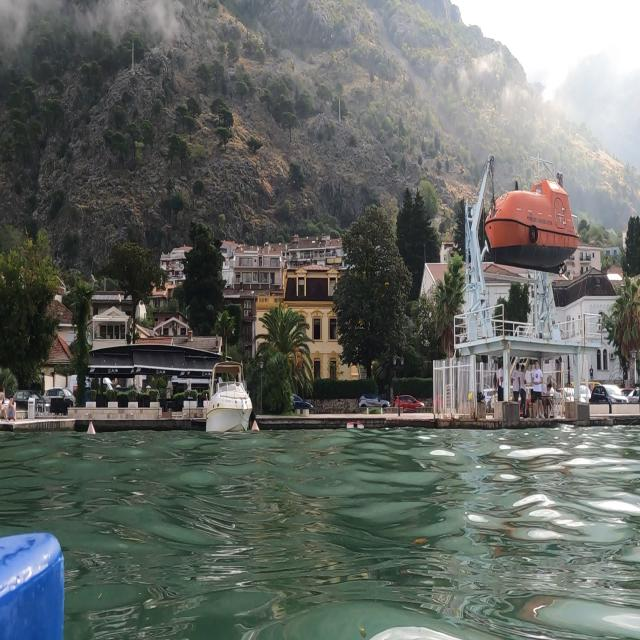boat: (203, 356, 256, 436)
buoy: (83, 419, 101, 443)
